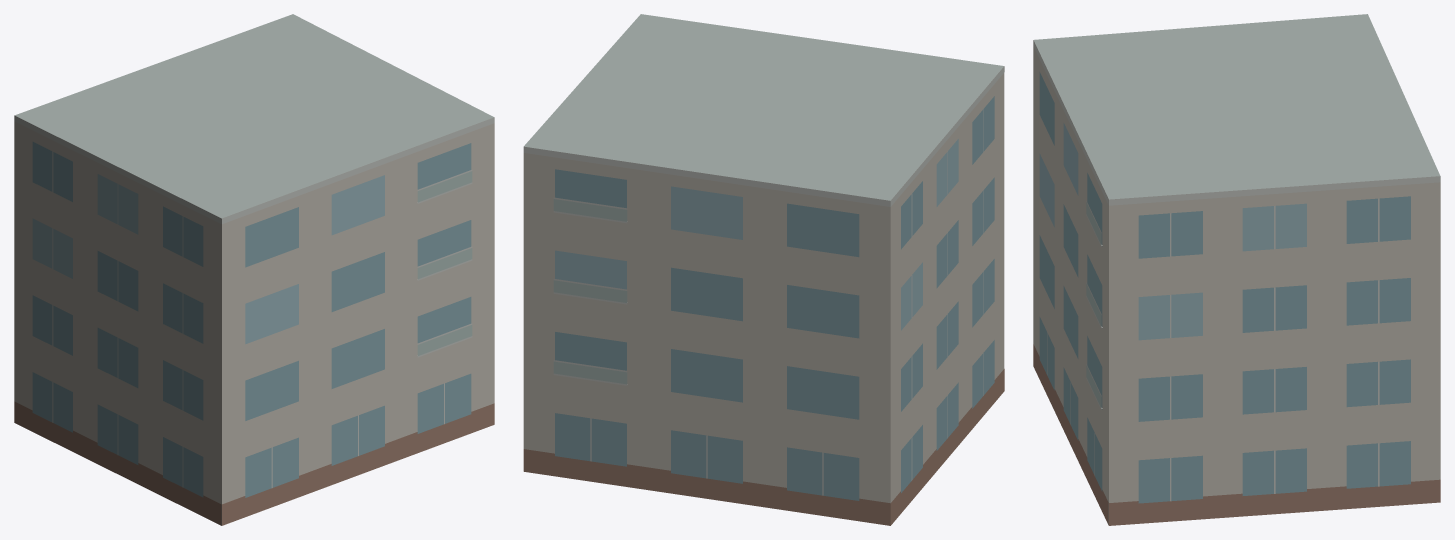
Rendered from survey-upis-32743100.glb.
3 views of the same model, side by side, from view 1: azimuth 30°, elevation 25°; view 2: azimuth 150°, elevation 25°; view 3: azimuth 270°, elevation 25° (orthographic). The views are drawn at different scales.
Parts seen in each view (by area): view 1: survey-upis-32743100.tmp; view 2: survey-upis-32743100.tmp; view 3: survey-upis-32743100.tmp.
Part boxes in pixels (<box>): survey-upis-32743100.tmp: <box>14,14,494,525</box>; survey-upis-32743100.tmp: <box>523,14,1004,525</box>; survey-upis-32743100.tmp: <box>1033,14,1440,525</box>.
Size of the model in its own units: 15.56 by 12.75 by 14.43.
